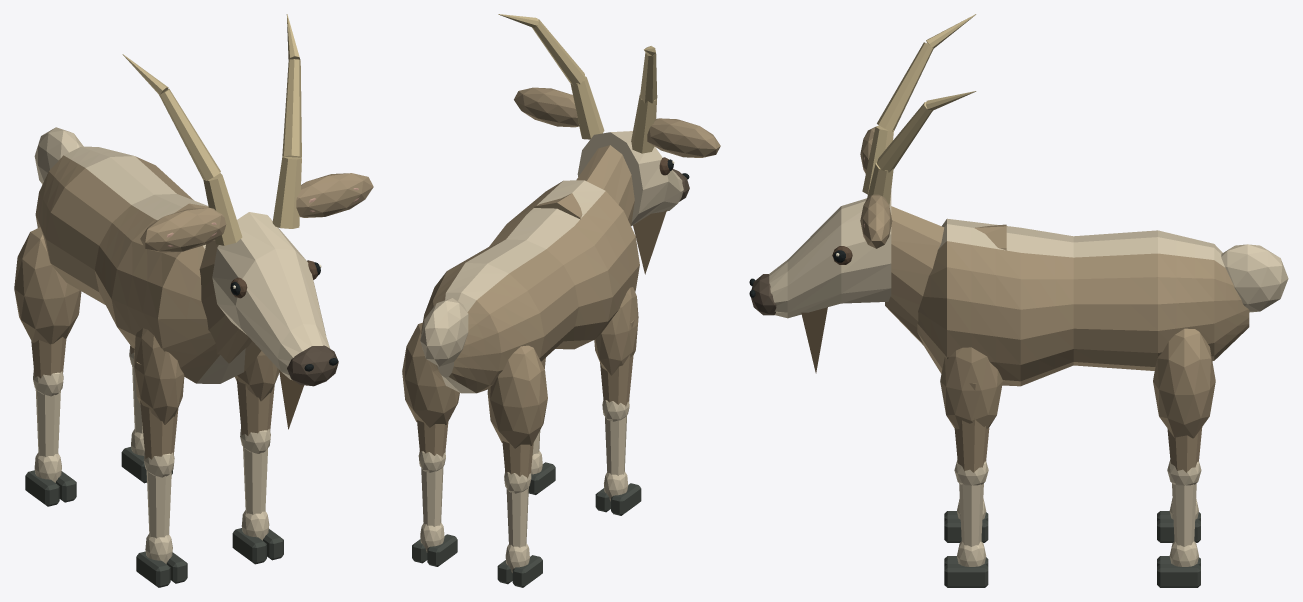
File: goat.glb
The picture shows the model from 3 angles, left to right: view 1: azimuth 30°, elevation 25°; view 2: azimuth 150°, elevation 25°; view 3: azimuth 270°, elevation 25°; orthographic projection. The views are drawn at different scales.
Visible parts, largest first — view 1: Body_mesh, Head_mesh, UpperLeg.002_mesh, UpperLeg_mesh, Horn.001_mesh, Horn_mesh, UpperLeg.001_mesh, Ear_mesh, Ear.001_mesh, LowerLeg_mesh, LowerLeg.002_mesh, LowerLeg.001_mesh (+7 smaller); view 2: Body_mesh, Head_mesh, UpperLeg.002_mesh, UpperLeg.003_mesh, UpperLeg_mesh, Horn.001_mesh, Tail_mesh, Ear_mesh, Ear.001_mesh, Horn_mesh, LowerLeg.003_mesh, LowerLeg.002_mesh (+6 smaller); view 3: Body_mesh, Head_mesh, UpperLeg.003_mesh, UpperLeg.001_mesh, Tail_mesh, Horn_mesh, Horn.001_mesh, LowerLeg.001_mesh, LowerLeg.003_mesh, Ear.001_mesh, Foot.001_mesh, Foot.003_mesh (+3 smaller).
Part boxes in pixels (x1,y1,x2,y2): Body_mesh: (35,146,261,383); Head_mesh: (175,203,338,386); UpperLeg.002_mesh: (14,227,81,396); UpperLeg_mesh: (133,328,184,477); Horn.001_mesh: (272,14,301,228); Horn_mesh: (122,54,242,245); UpperLeg.001_mesh: (235,351,279,453); Ear_mesh: (140,207,226,252); Ear.001_mesh: (296,173,373,217); LowerLeg_mesh: (145,470,172,563); LowerLeg.002_mesh: (34,389,61,482); LowerLeg.001_mesh: (241,447,269,540); Body_mesh: (421,180,639,393); Head_mesh: (534,131,689,226); UpperLeg.002_mesh: (487,345,547,493); UpperLeg.003_mesh: (402,322,459,472); UpperLeg_mesh: (594,287,638,421); Horn.001_mesh: (498,14,604,139); Tail_mesh: (420,298,468,366); Ear_mesh: (647,118,720,157); Ear.001_mesh: (514,87,579,127); Horn_mesh: (631,46,657,153); LowerLeg.003_mesh: (420,466,444,552); LowerLeg.002_mesh: (505,487,529,572); Body_mesh: (917,218,1249,386); Head_mesh: (749,192,1006,345); UpperLeg.003_mesh: (1153,328,1215,485); UpperLeg.001_mesh: (940,347,1002,485); Tail_mesh: (1221,244,1288,312); Horn_mesh: (862,14,976,194); Horn.001_mesh: (867,91,976,205); LowerLeg.001_mesh: (957,483,986,566); LowerLeg.003_mesh: (1169,483,1198,566); Ear.001_mesh: (860,194,892,248); Foot.001_mesh: (944,556,988,587); Foot.003_mesh: (1157,556,1200,587).
Bounding box in the file's own units: 0.8063 × 1.78 × 1.72.
